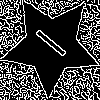I: (26, 20, 69, 60)
